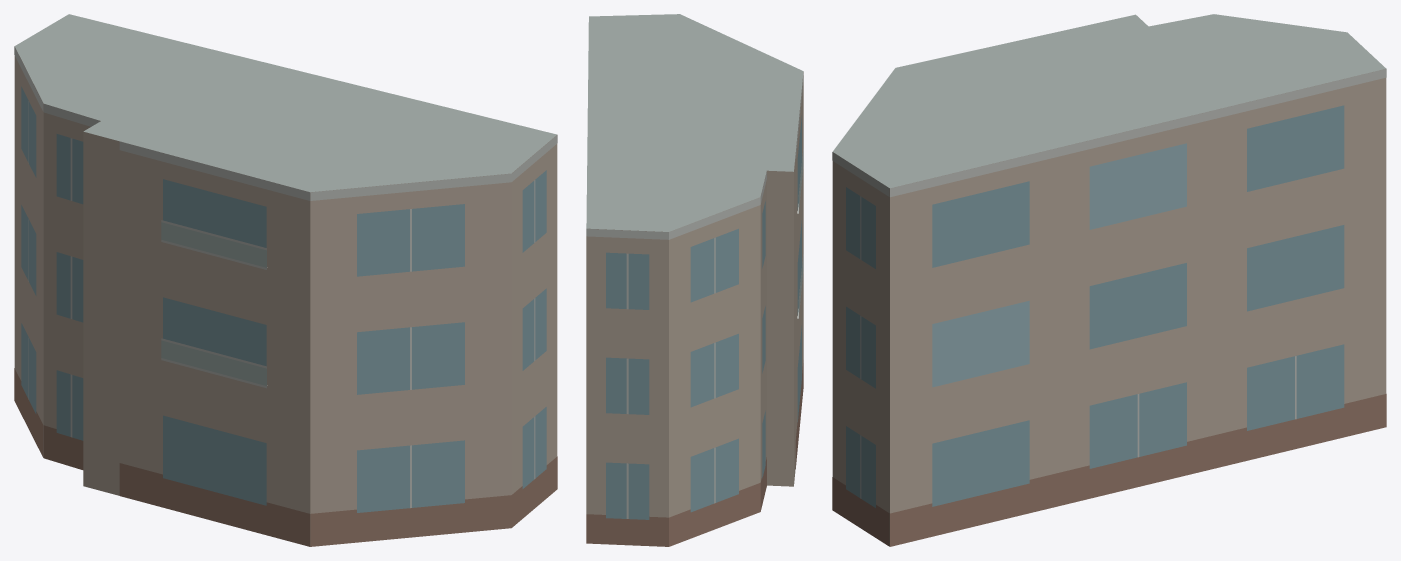
The model's file is survey-upis-32970831.glb.
3 renders of one model, left to right at view 1: azimuth 30°, elevation 25°; view 2: azimuth 150°, elevation 25°; view 3: azimuth 270°, elevation 25°, orthographic. The views are drawn at different scales.
Parts seen in each view (by area): view 1: survey-upis-32970831.tmp; view 2: survey-upis-32970831.tmp; view 3: survey-upis-32970831.tmp.
Boxes of the visible parts, bbox=[...] form: survey-upis-32970831.tmp: bbox=[14, 14, 557, 546]; survey-upis-32970831.tmp: bbox=[586, 14, 803, 546]; survey-upis-32970831.tmp: bbox=[832, 14, 1386, 546].
Bounding box in the file's own units: 10.23 × 9.8 × 13.74.
